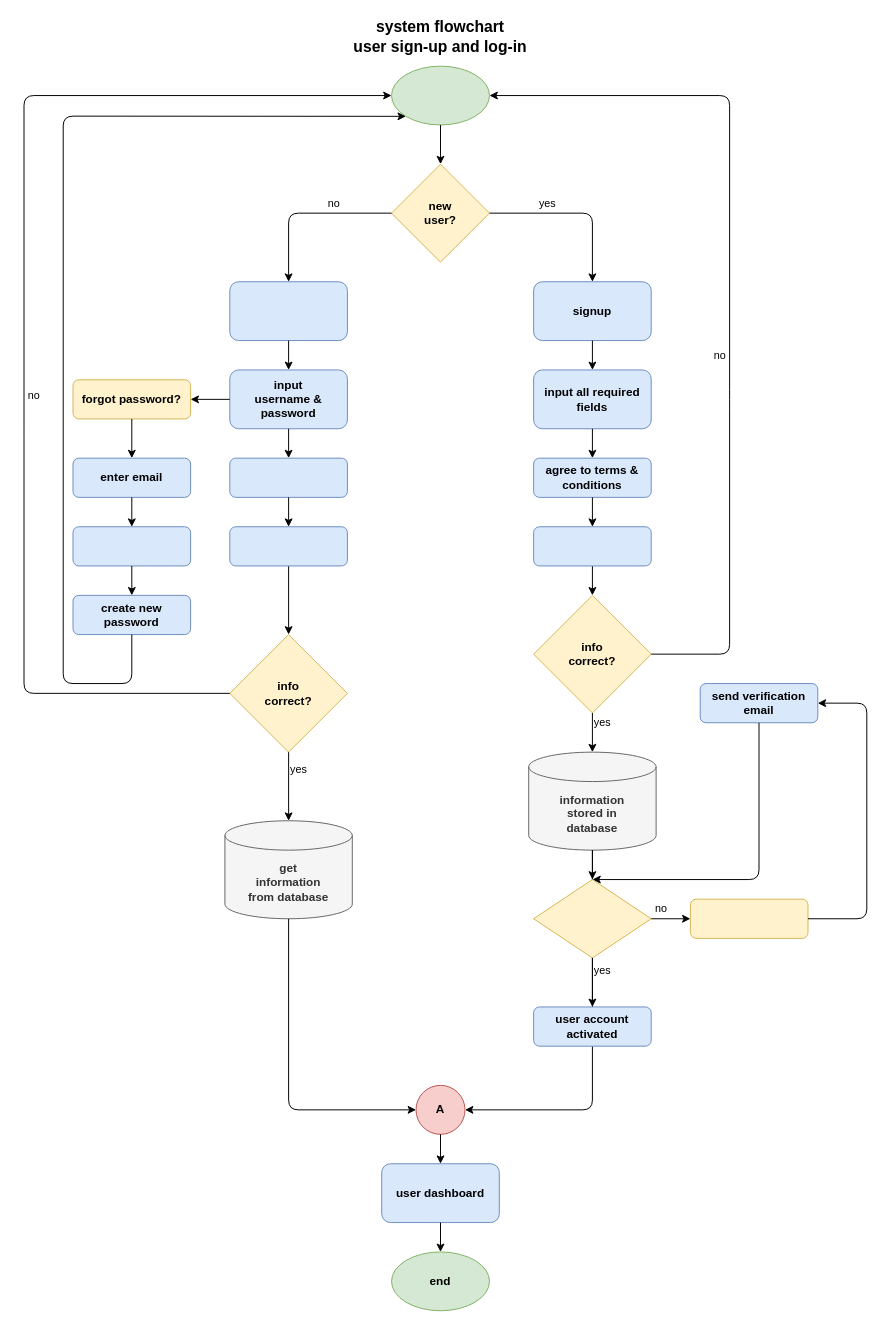
Image size: 892x1328. Some labels were removed from this diagram. Here are the shapes that lost their labels. From the top down, the centre of each, then its label:
At (440,95): "start".
At (288,311): "login".
At (288,477): "solve captcha".
At (131,546): "password reset email sent".
At (288,546): "submit login".
At (592,546): "solve captcha & submit".
At (592,918): "email verified?".
At (748,918): "resend verification email".
